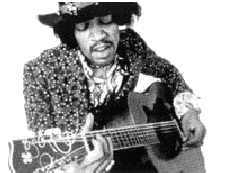guitar: (5, 82, 207, 173)
